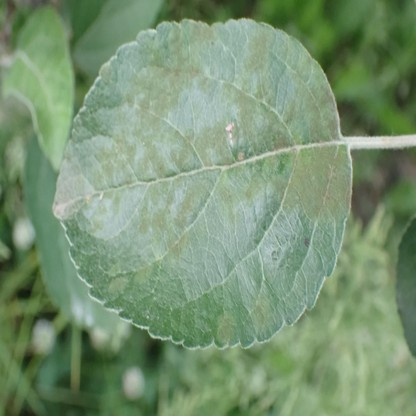scab: (85, 21, 351, 344)
